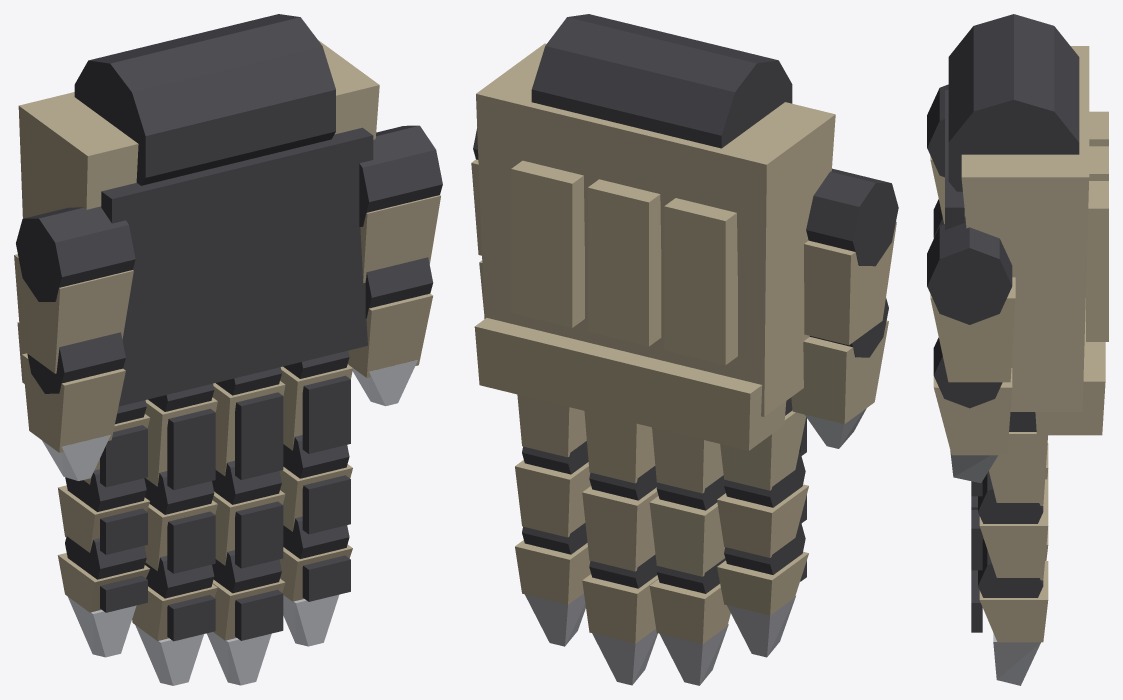
File: mech_hand.glb
The picture shows the model from 3 angles, left to right: view 1: azimuth 30°, elevation 25°; view 2: azimuth 150°, elevation 25°; view 3: azimuth 270°, elevation 25°; orthographic projection. The views are drawn at different scales.
Parts seen in each view (by area): view 1: palm, thumbL_1, thumbL_2, thumbR_1, thumbR_2, f1_3, f3_3, f2_3, f1_1, f0_3, f2_1, f1_2 (+5 smaller); view 2: palm, thumbL_1, thumbL_2, f1_3, f3_3, f2_3, f0_3, f1_2, f3_2, f2_2, f0_2, f3_1 (+4 smaller); view 3: palm, thumbR_1, thumbR_2, f0_3, f0_2, f0_1, thumbL_1.
Boxes of the visible parts, <box> form: palm: <box>17,14,379,406</box>; thumbL_1: <box>14,206,135,373</box>; thumbL_2: <box>22,332,125,480</box>; thumbR_1: <box>359,125,442,283</box>; thumbR_2: <box>347,257,433,406</box>; f1_3: <box>206,550,285,685</box>; f3_3: <box>57,536,149,657</box>; f2_3: <box>132,556,217,685</box>; f1_1: <box>212,367,285,479</box>; f0_3: <box>279,516,352,646</box>; f2_1: <box>145,383,217,489</box>; f1_2: <box>212,460,285,568</box>; palm: <box>474,14,835,450</box>; thumbL_1: <box>804,168,898,345</box>; thumbL_2: <box>791,298,888,448</box>; f1_3: <box>582,554,658,685</box>; f3_3: <box>717,520,808,657</box>; f2_3: <box>649,558,730,685</box>; f0_3: <box>515,523,590,646</box>; f1_2: <box>582,466,658,571</box>; f3_2: <box>717,452,808,557</box>; f2_2: <box>649,475,725,576</box>; f0_2: <box>515,441,590,537</box>; f3_1: <box>720,397,806,490</box>; palm: <box>945,14,1108,435</box>; thumbR_1: <box>927,216,1015,382</box>; thumbR_2: <box>933,337,1012,483</box>; f0_3: <box>971,547,1048,685</box>; f0_2: <box>971,471,1048,580</box>; f0_1: <box>971,412,1047,505</box>; thumbL_1: <box>927,84,965,223</box>.
Bounding box in the file's own units: 2.48 × 4.05 × 1.11.
